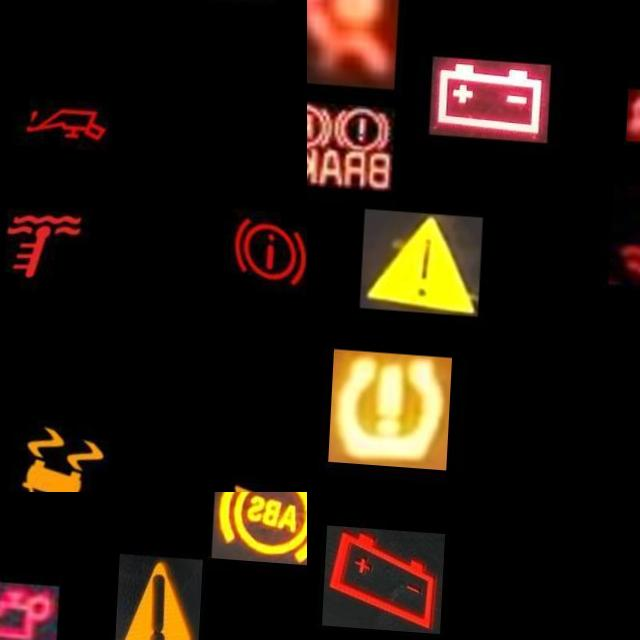Central Warning lamp: (365, 206, 487, 312), (118, 547, 206, 640)
Engine cooling system: (612, 177, 640, 284)
